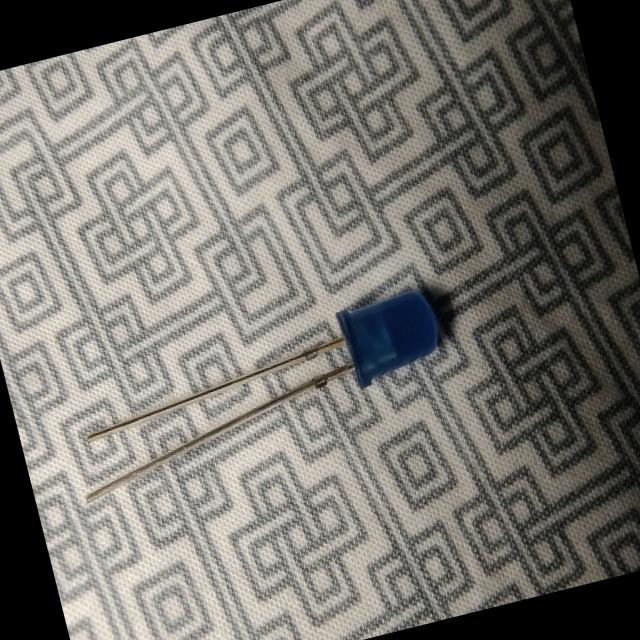blue_led: (332, 283, 448, 391)
